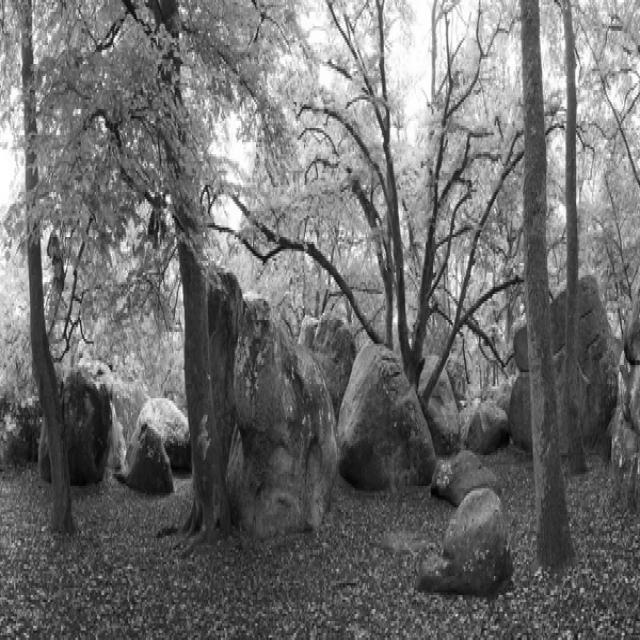Stone: (209, 274, 340, 541), (342, 335, 438, 483), (580, 285, 640, 487), (430, 492, 514, 598), (449, 449, 498, 506)
